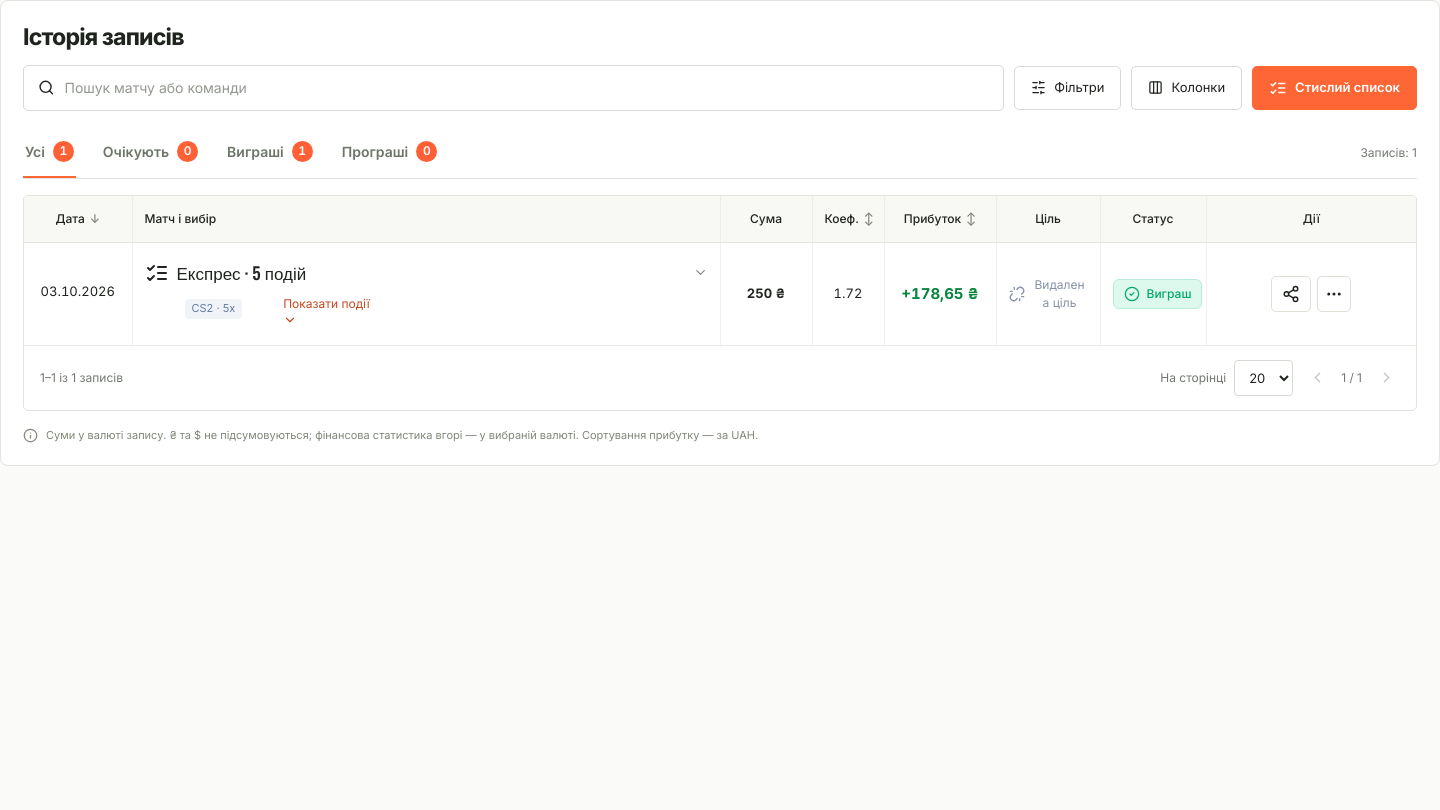
Test: full-width journal › expands five structured legs directly after the parent row, without financial duplicates
Click the button "Експрес · 5 подій CS2 · 5x Показати події" at (212, 272), box [144,261,708,327]
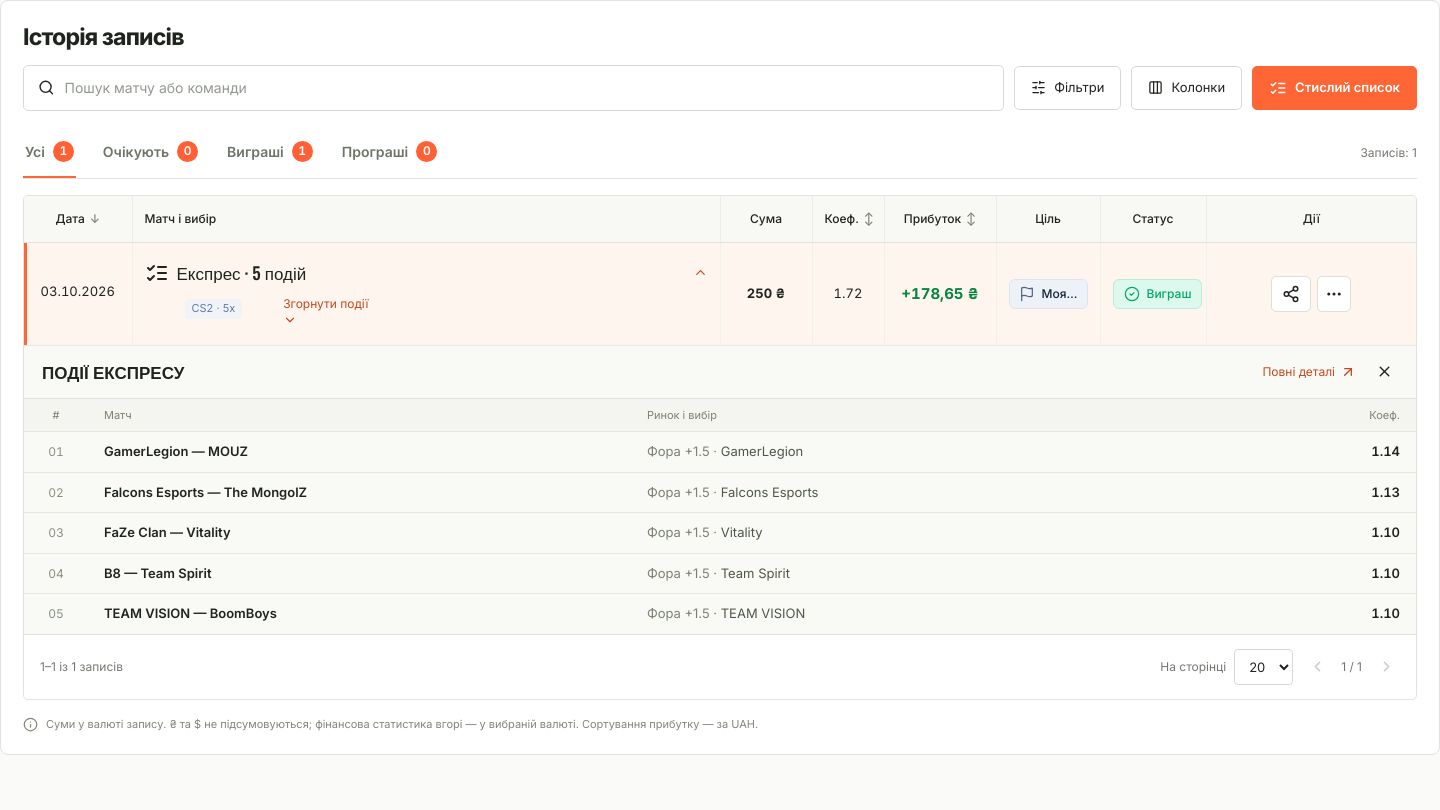
Check: the text "GamerLegion — MOUZ" is shown, box [104,443,248,459]
Check: the text "TEAM VISION — BoomBoys" is shown, box [104,605,277,621]
Check: the text "1.10" is shown 3 times, box [1328,513,1416,553]; [1328,553,1416,594]; [1328,594,1416,634]
